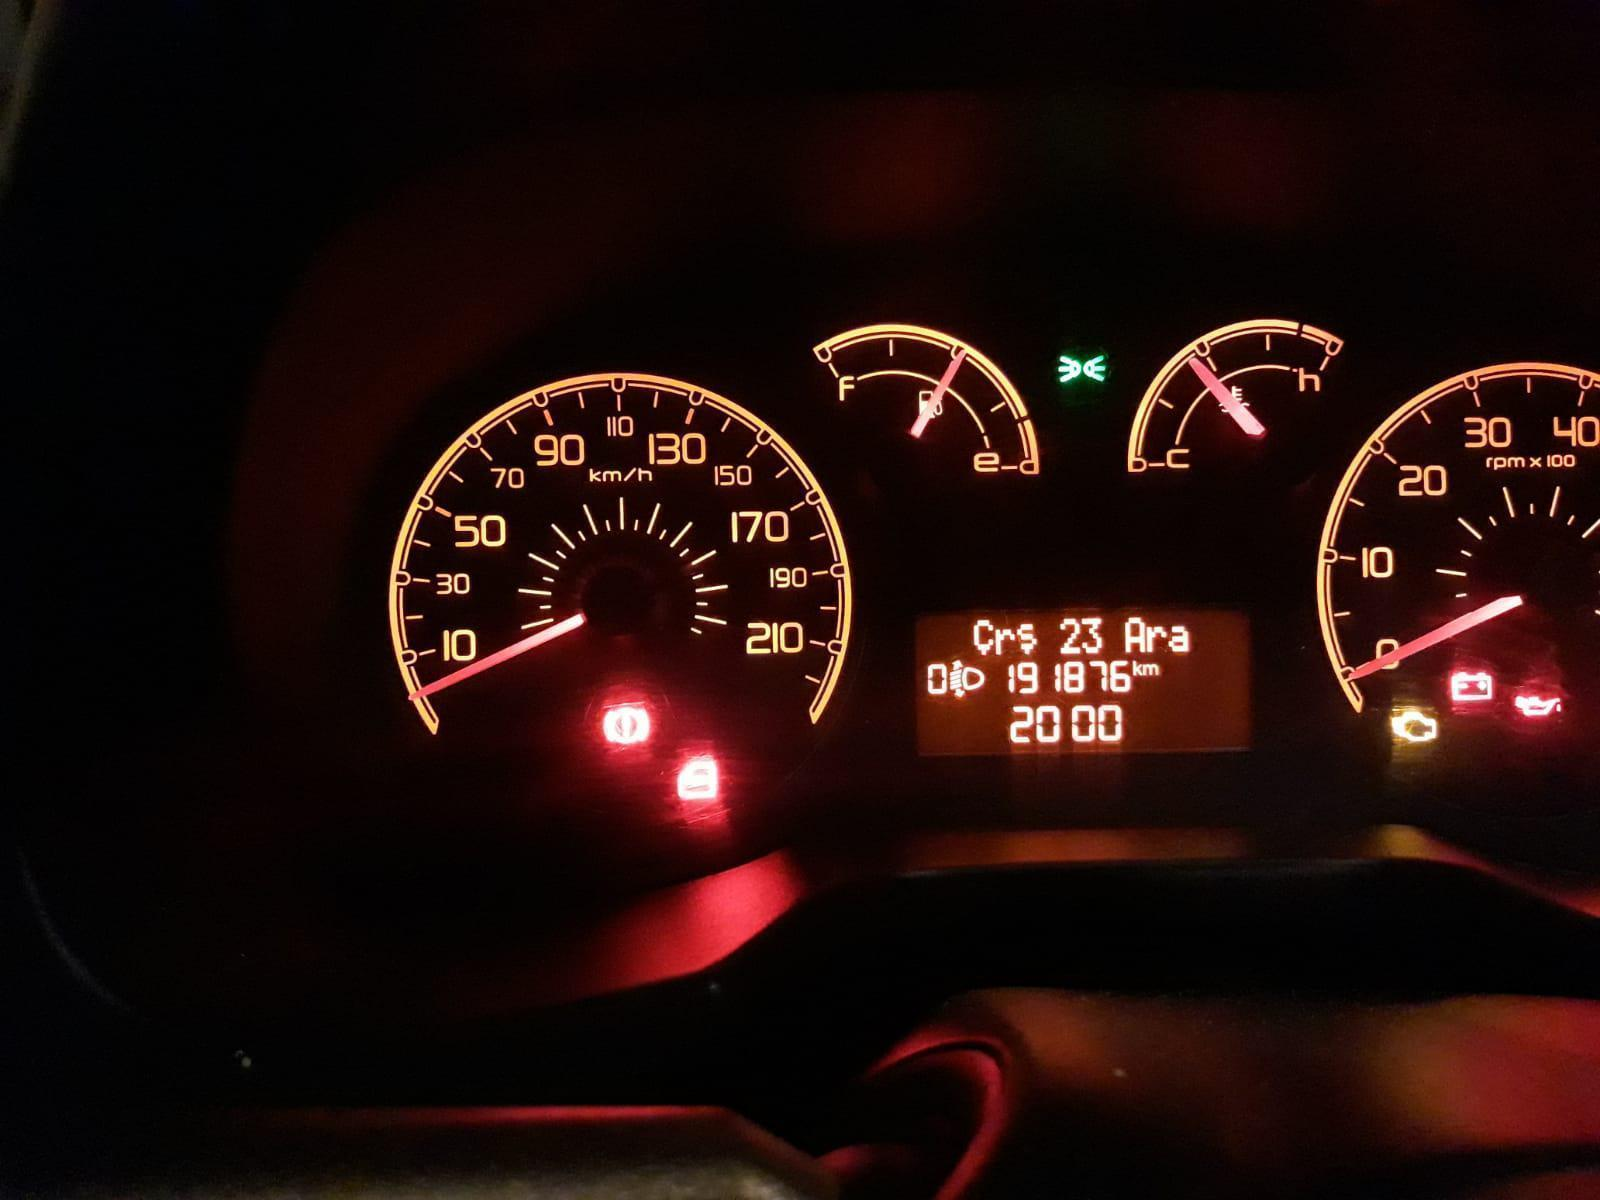0: (1097, 702, 1123, 742), (1036, 705, 1060, 745), (1071, 705, 1096, 742), (926, 661, 947, 695)
1: (1017, 659, 1039, 695), (1052, 661, 1062, 697), (1007, 661, 1015, 697)
2: (1009, 705, 1032, 744), (1058, 615, 1077, 654)
3: (1081, 616, 1102, 652)
6: (1109, 658, 1133, 693)
7: (1089, 658, 1107, 693)
8: (1063, 659, 1085, 695)
X: (969, 618, 993, 657), (1123, 616, 1145, 657), (1015, 620, 1039, 657), (1170, 623, 1191, 653), (994, 624, 1012, 655), (1146, 623, 1165, 652), (1141, 663, 1159, 677), (1131, 658, 1141, 678)
odometer: (906, 605, 1262, 759)
